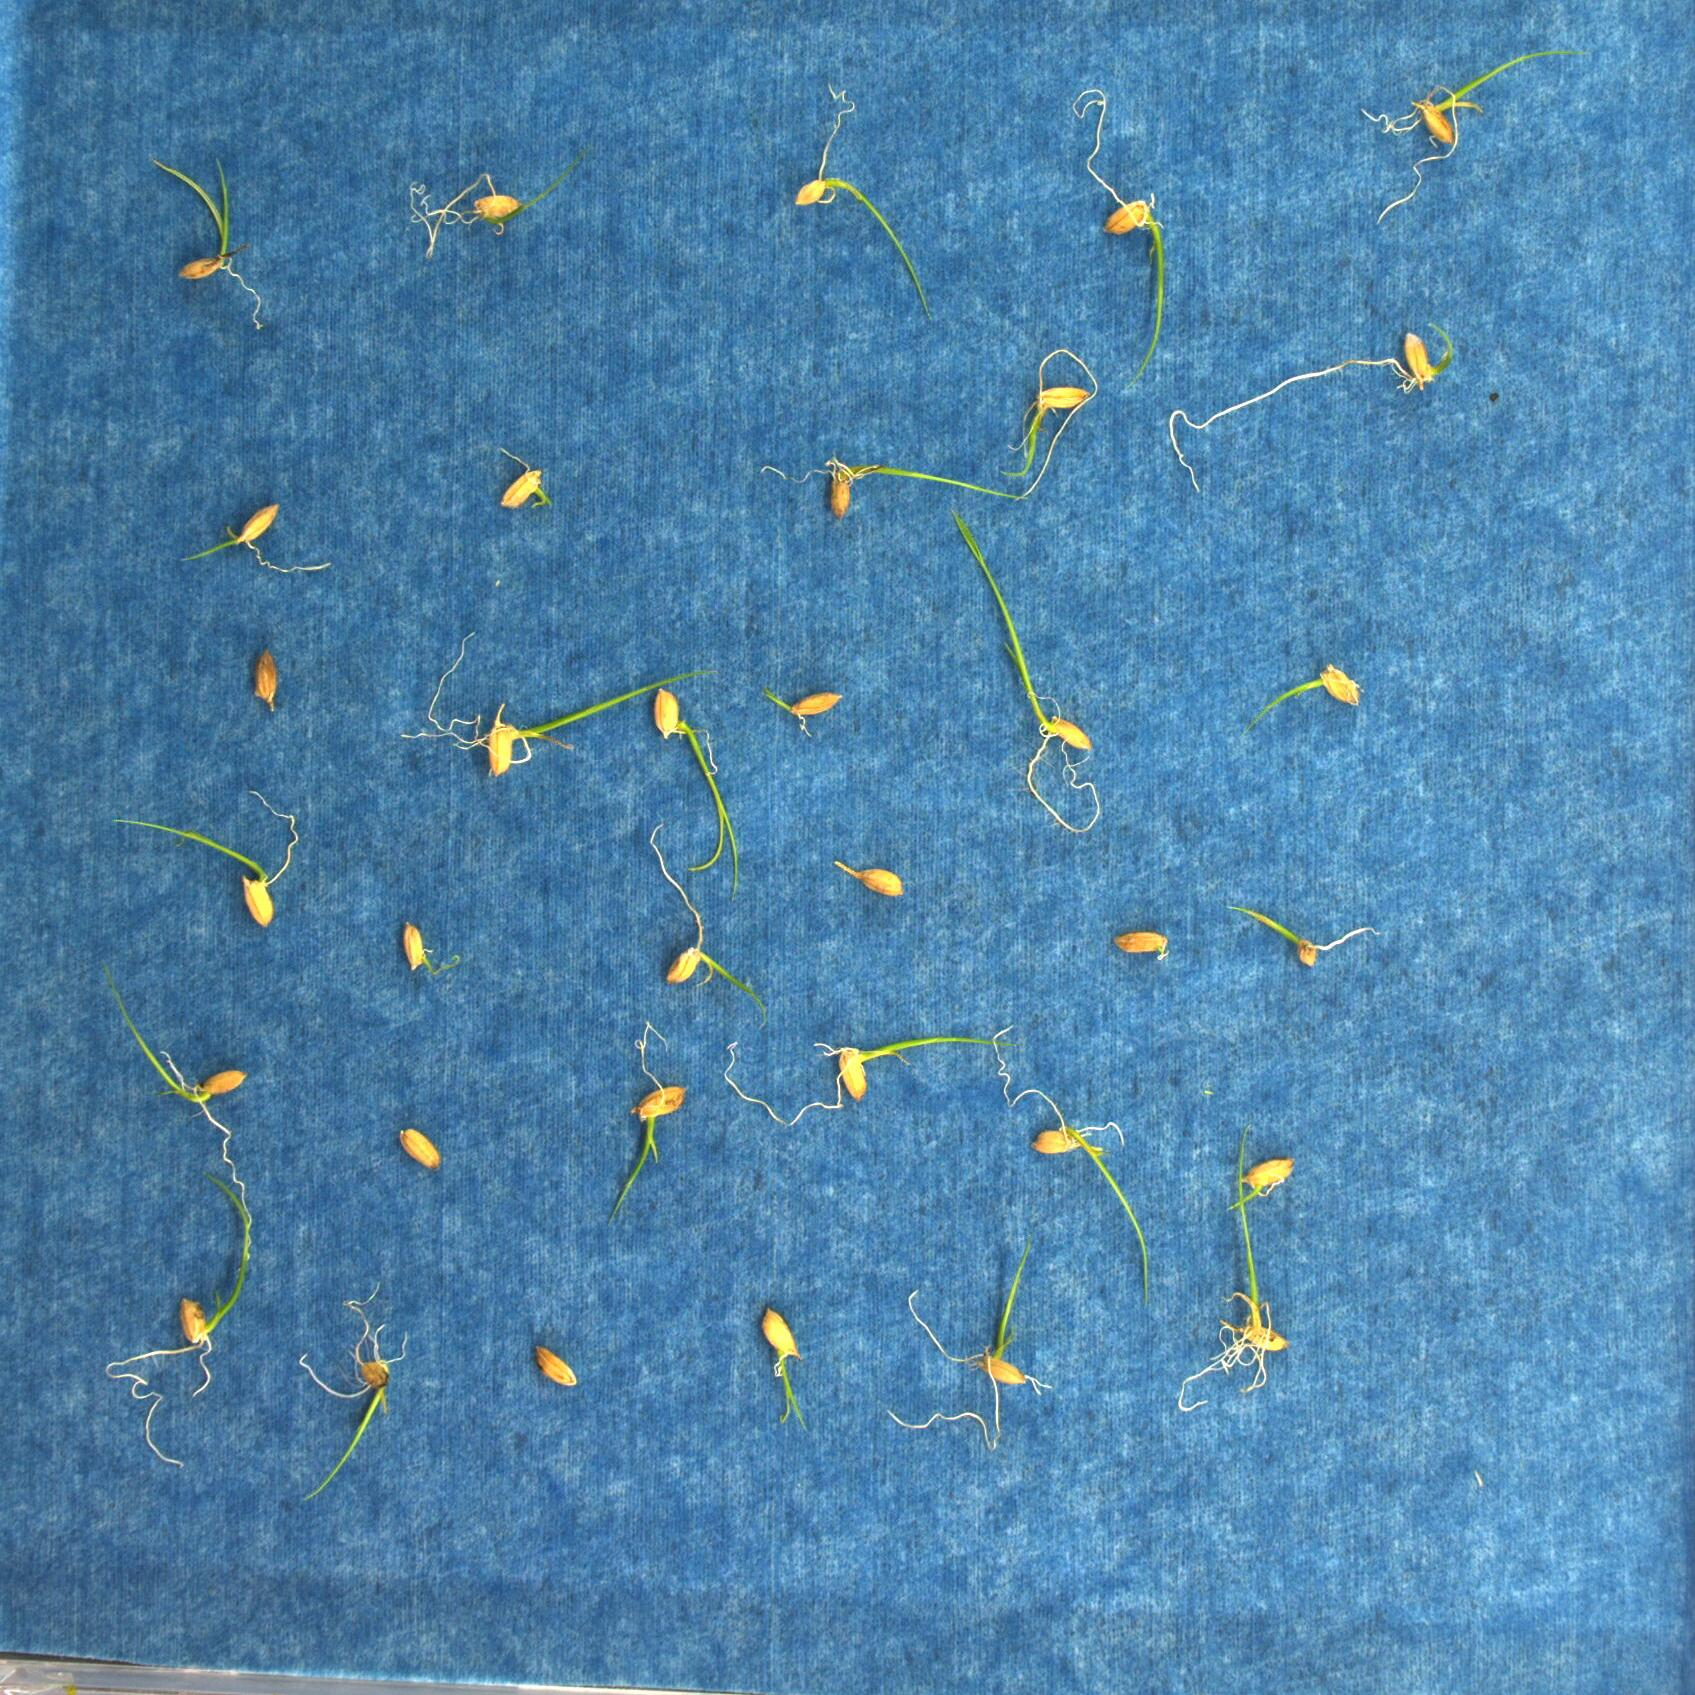not sprout: (248, 647, 290, 717), (396, 1127, 453, 1177), (1104, 930, 1175, 967), (529, 1340, 581, 1389)
sprout: (941, 504, 1104, 834), (1169, 321, 1458, 497), (995, 1023, 1152, 1309), (1357, 40, 1591, 231), (106, 1170, 251, 1471), (396, 632, 700, 773), (112, 986, 261, 1263), (781, 88, 941, 329), (886, 1243, 1055, 1450), (1069, 92, 1173, 383), (1180, 1128, 1285, 1412), (716, 1038, 1024, 1128), (112, 793, 292, 928), (649, 824, 771, 1020), (309, 1279, 408, 1510), (147, 157, 262, 332), (400, 158, 591, 261), (652, 685, 740, 903), (759, 453, 1029, 517), (607, 1024, 691, 1226), (1010, 349, 1093, 503), (1228, 899, 1383, 972), (183, 504, 332, 577), (751, 1293, 813, 1434), (1243, 664, 1360, 730), (489, 439, 553, 512), (771, 683, 844, 744), (1229, 1156, 1301, 1212), (830, 855, 911, 903), (399, 925, 459, 986)
